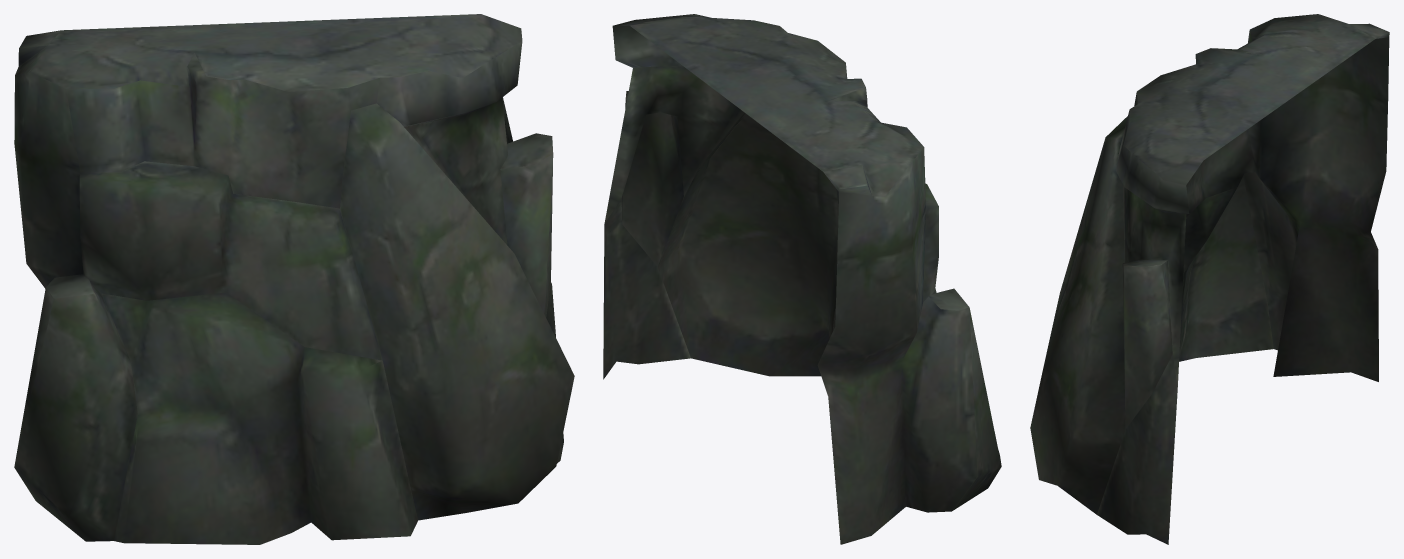
Rendered from Moba_sq.FBX.
The picture shows the model from 3 angles, left to right: view 1: azimuth 30°, elevation 25°; view 2: azimuth 150°, elevation 25°; view 3: azimuth 270°, elevation 25°; orthographic projection. The views are drawn at different scales.
Visible parts, largest first — view 1: Moba_sq; view 2: Moba_sq; view 3: Moba_sq.
Part boxes in pixels (box(x1,y1,x2,y2)): Moba_sq: box(14, 14, 574, 544); Moba_sq: box(603, 14, 1001, 544); Moba_sq: box(1030, 14, 1389, 544).
Bounding box in the file's own units: 15.4 × 11.73 × 13.1.
Materials: 1 (1 with a texture image).
